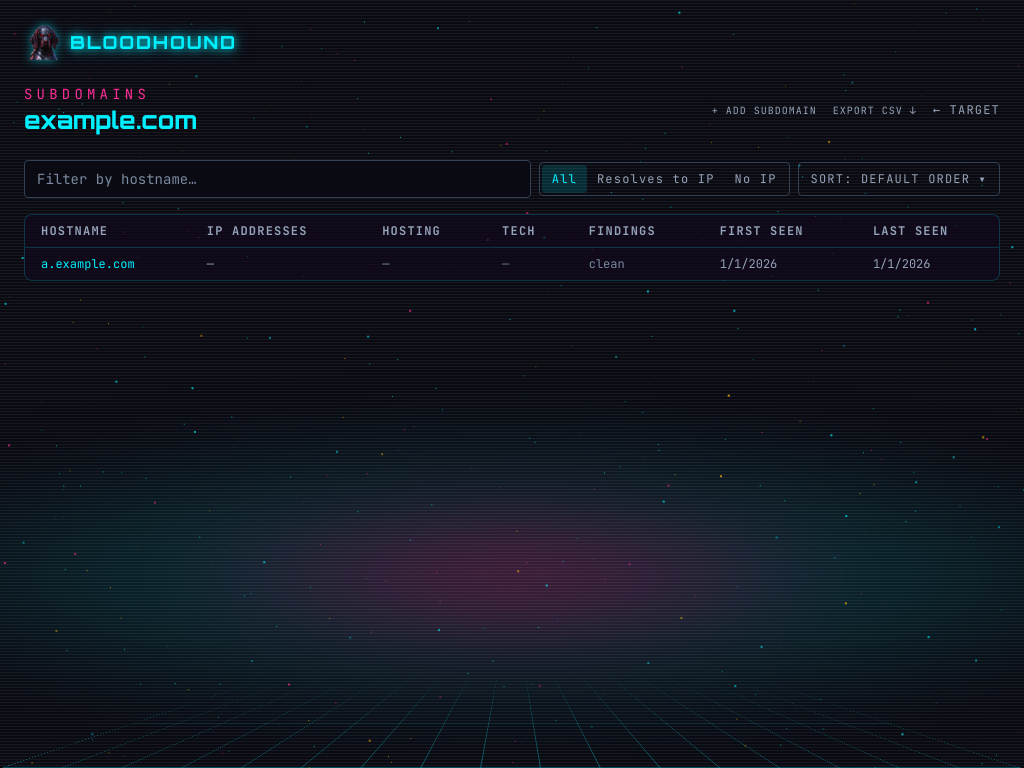
Test case: SubdomainsPage IP resolution filter › filtering down to zero matches keeps the filter controls visible, not just the empty-state text
The image size is (1024, 768).
Expected: the text "a.example.com" is shown, [25, 248, 191, 280]
Click the button "No IP" at (756, 179), box [724, 165, 786, 193]
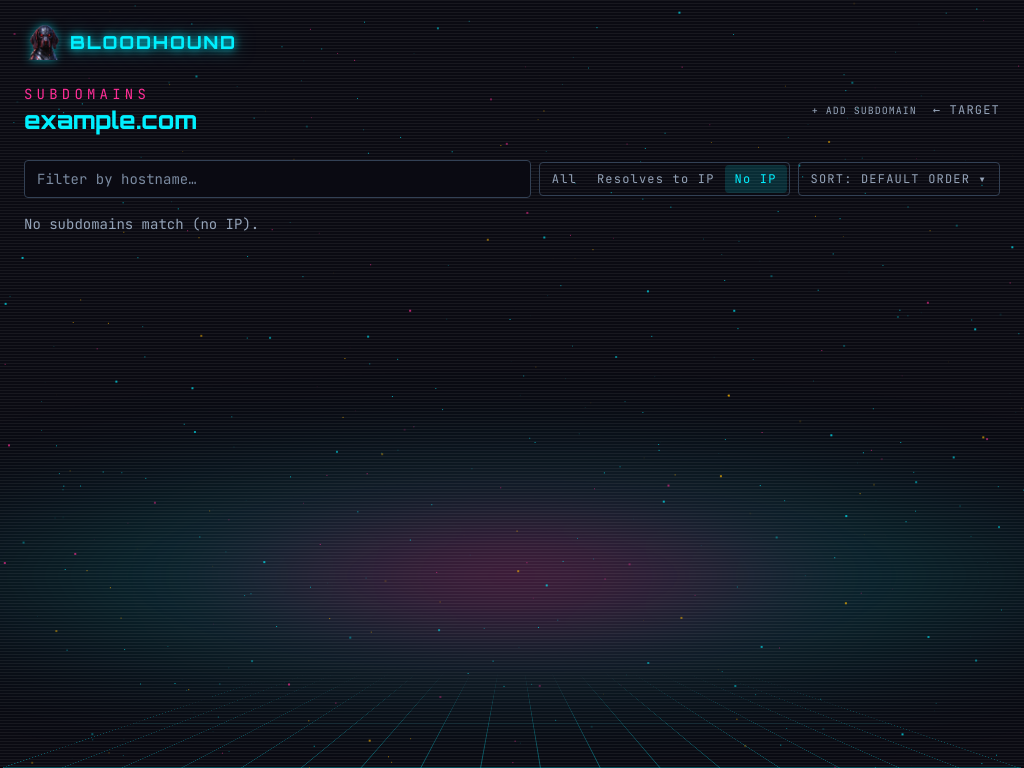
Expected: the button "All" is shown, [542, 165, 587, 193]
Result: the text "No subdomains match (no IP)." is shown at [24, 215, 259, 233]
